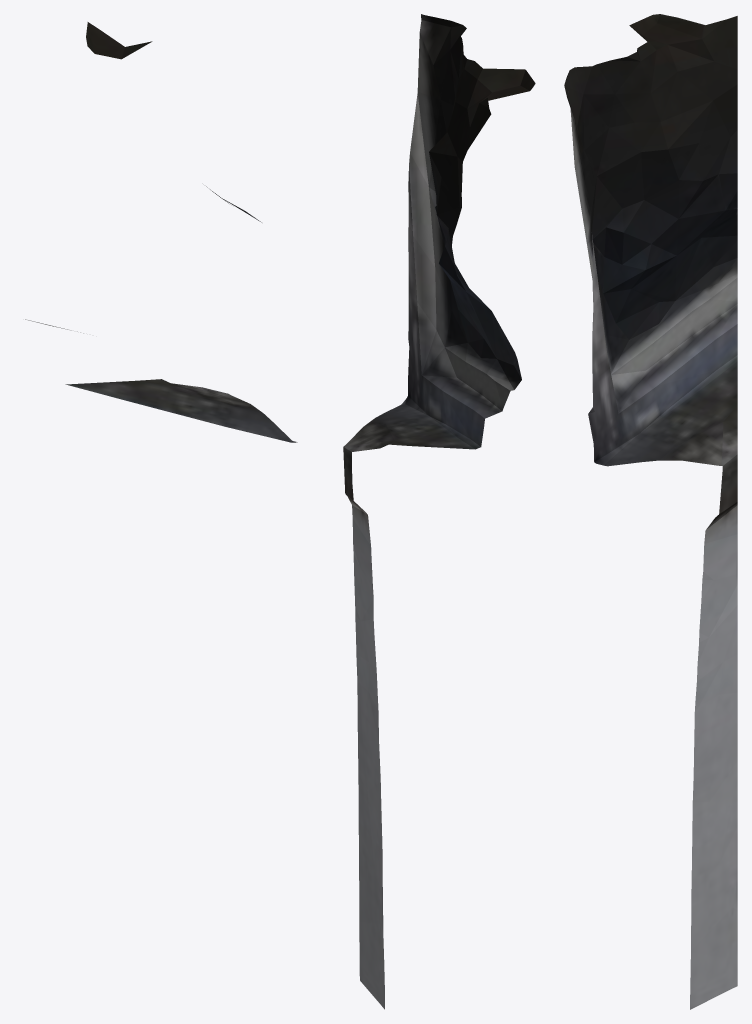
3 renders of one model, left to right at view 1: azimuth 30°, elevation 25°; view 2: azimuth 150°, elevation 25°; view 3: azimuth 270°, elevation 25°, orthographic. The views are drawn at different scales.
Bounding box in the file's own units: 0.3541 × 1.67 × 0.2866.
1 material, 1 textured.
